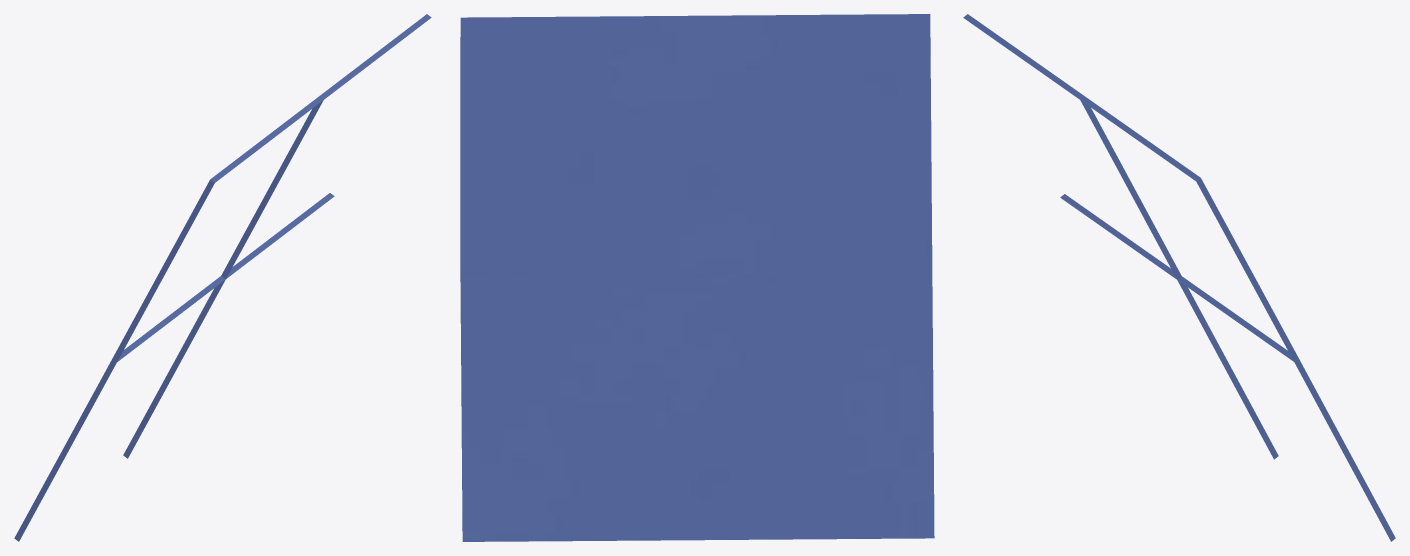
3 views of the same model, side by side, from view 1: azimuth 30°, elevation 25°; view 2: azimuth 150°, elevation 25°; view 3: azimuth 270°, elevation 25° (orthographic). The views are drawn at different scales.
Bounding box in the file's own units: 19691 × 17635 × 16808.
Materials: 1 (1 with a texture image).
